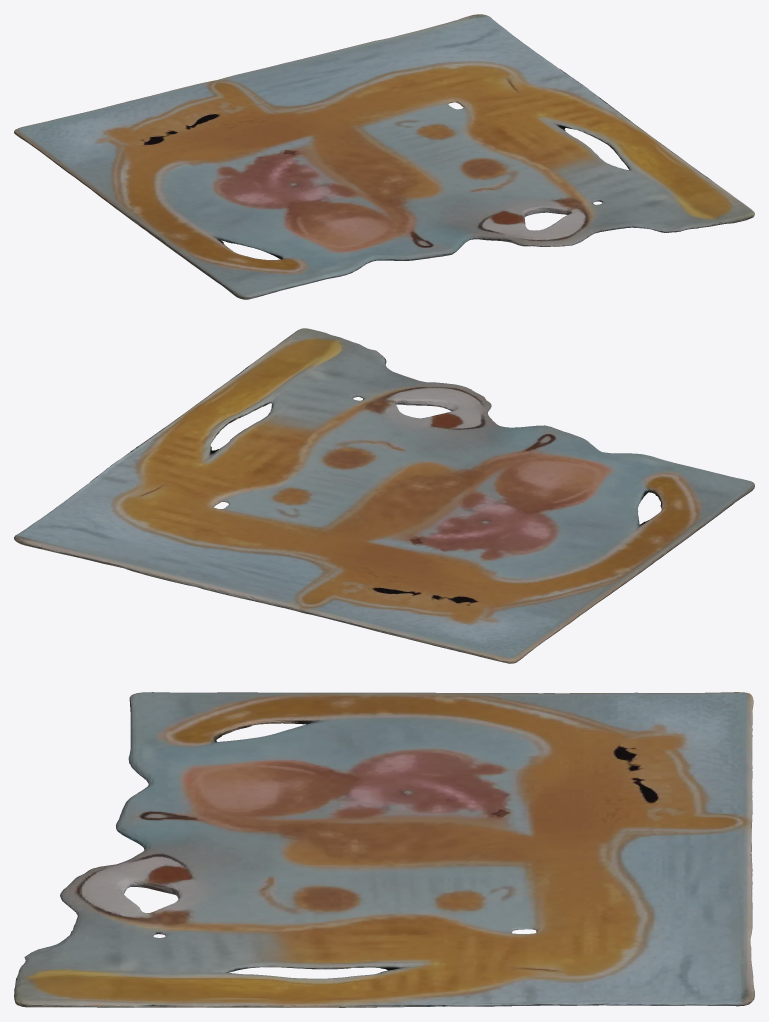
The model's file is ast_5229f072c636.glb.
3 renders of one model, top to bottom at view 1: azimuth 30°, elevation 25°; view 2: azimuth 150°, elevation 25°; view 3: azimuth 270°, elevation 25°, orthographic. The views are drawn at different scales.
Visible parts, largest first — view 1: geometry_0; view 2: geometry_0; view 3: geometry_0.
Boxes of the visible parts, left/top/right/bottom form: geometry_0: left=14, top=14, right=754, bottom=299; geometry_0: left=14, top=328, right=754, bottom=663; geometry_0: left=14, top=692, right=754, bottom=1007.
Size of the model in its own units: 1 by 0.0155 by 1.
1 material, 1 textured.
